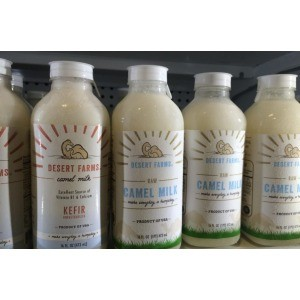milk_brain food: (26, 83, 100, 235), (110, 98, 176, 232), (183, 127, 243, 235), (252, 137, 299, 240)
